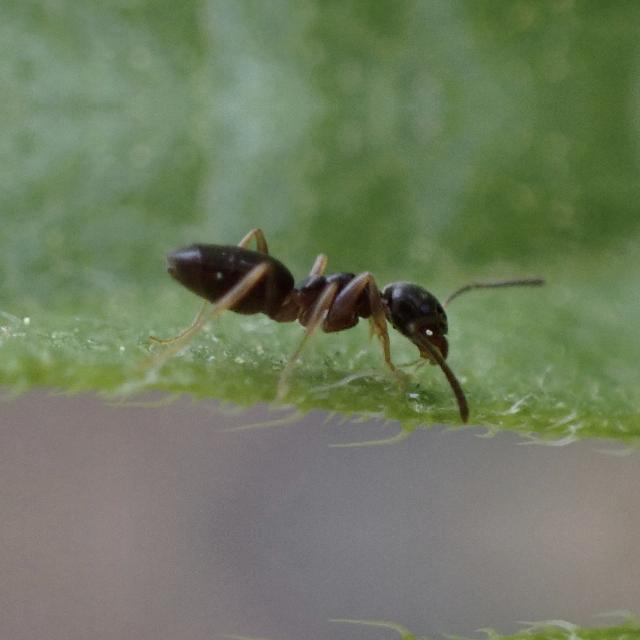Tapinoma: (135, 212, 518, 394)
